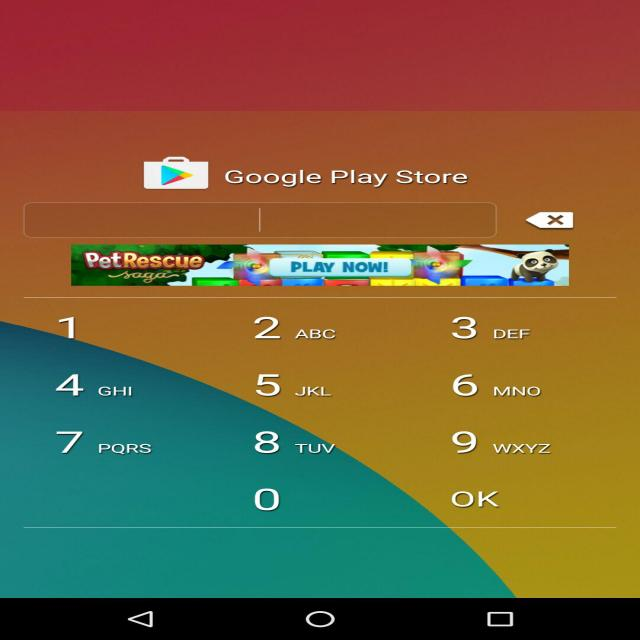button: (61, 239, 594, 295), (31, 406, 180, 482), (208, 464, 382, 522), (9, 304, 205, 354), (428, 359, 608, 411), (404, 466, 591, 508), (208, 304, 363, 350), (430, 417, 574, 464), (247, 418, 391, 464), (43, 359, 188, 402), (405, 314, 545, 353), (243, 368, 393, 404), (517, 194, 606, 238)
image: (133, 146, 234, 192)
text: (225, 156, 528, 201)
